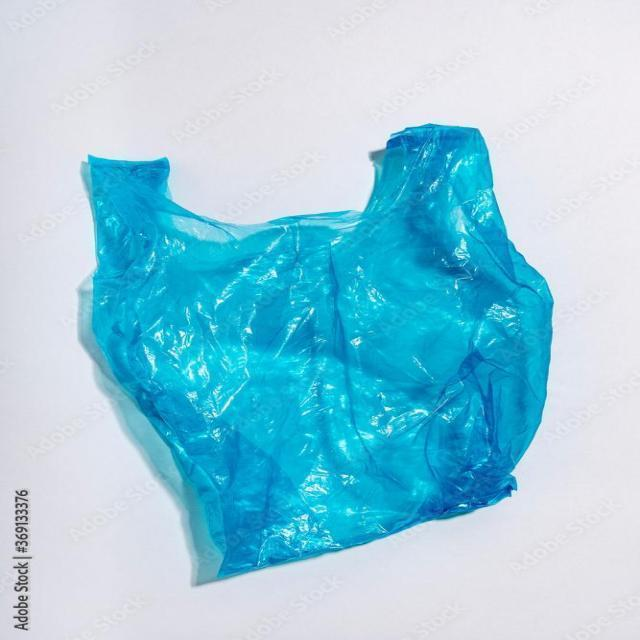Plastic_Bag: (42, 142, 548, 562)
